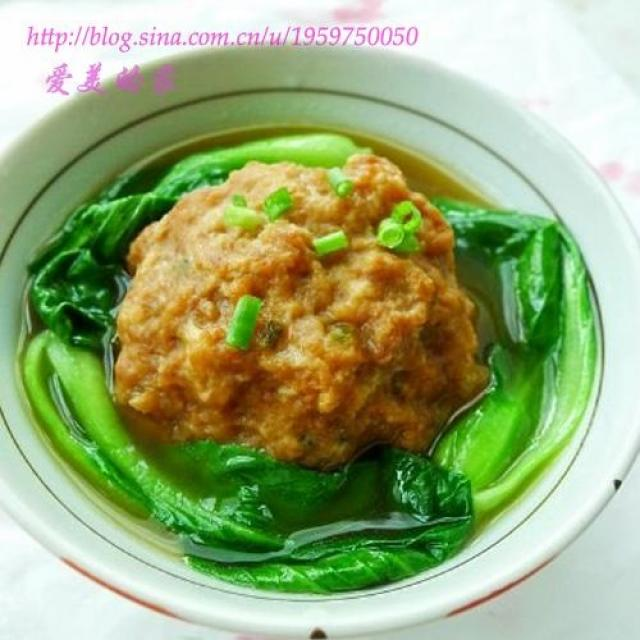Meatball: (102, 140, 503, 480)
